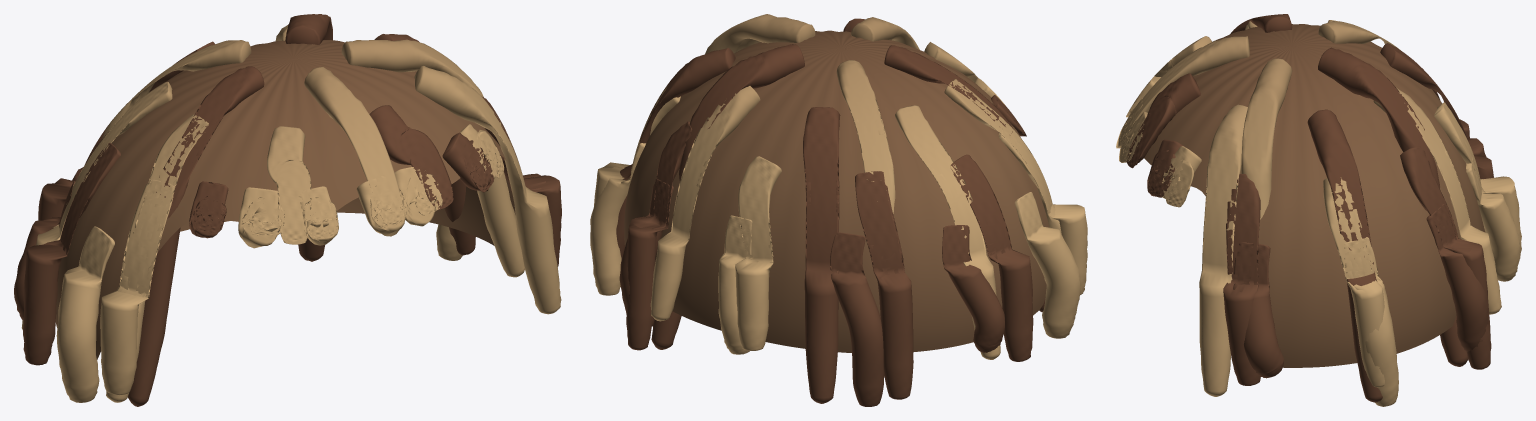
File: Highlights-ec575fab9109251-hair.glb
3 views of the same model, side by side, from view 1: azimuth 30°, elevation 25°; view 2: azimuth 150°, elevation 25°; view 3: azimuth 270°, elevation 25° (orthographic). The views are drawn at different scales.
Visible parts, largest first — view 1: 226 hair / Hair / loc main251.001, 226 hair / Hair / loc accent251.001, 226 hair / Hair / recessed roots251.001; view 2: 226 hair / Hair / loc main251.001, 226 hair / Hair / recessed roots251.001, 226 hair / Hair / loc accent251.001; view 3: 226 hair / Hair / recessed roots251.001, 226 hair / Hair / loc main251.001, 226 hair / Hair / loc accent251.001.
Part boxes in pixels (x1,y1,x2,y2): 226 hair / Hair / loc main251.001: (14, 14, 561, 406); 226 hair / Hair / loc accent251.001: (56, 25, 561, 402); 226 hair / Hair / recessed roots251.001: (55, 40, 515, 359); 226 hair / Hair / loc main251.001: (616, 17, 1045, 406); 226 hair / Hair / recessed roots251.001: (624, 30, 1049, 352); 226 hair / Hair / loc accent251.001: (590, 14, 1087, 354); 226 hair / Hair / recessed roots251.001: (1144, 24, 1485, 367); 226 hair / Hair / loc main251.001: (1120, 14, 1493, 402); 226 hair / Hair / loc accent251.001: (1116, 21, 1521, 406).
Bounding box in the file's own units: 1.13 × 0.666 × 0.8683.
